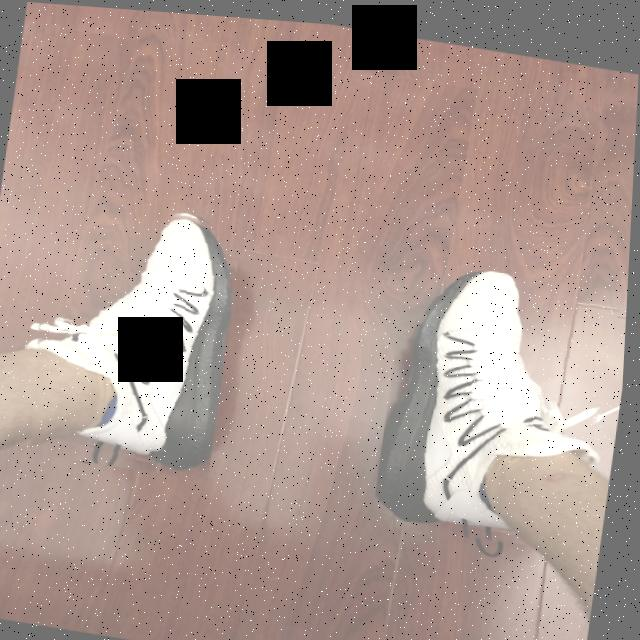shoe: (375, 250, 625, 550), (16, 184, 247, 479)
